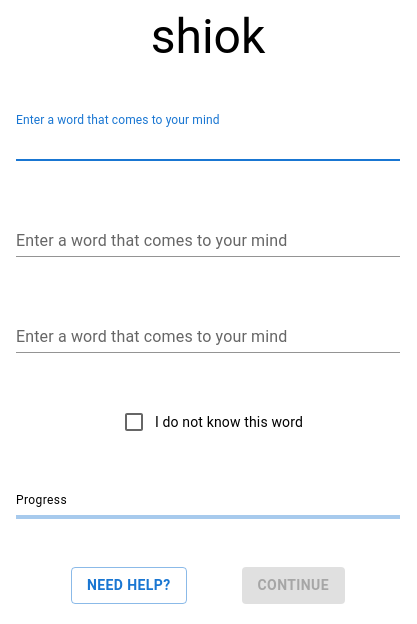
Test: QuizPage › re-enables response fields and clears previous answers when recognition is toggled back on
Type "kopi" into the 1st field labelled "Enter a word that comes to your mind" at (208, 145), box [16,129,400,161]
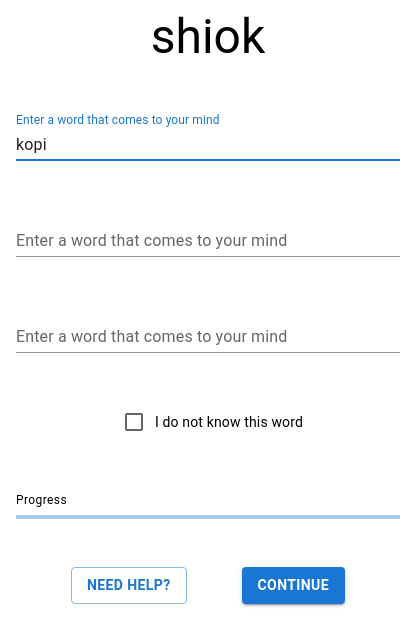
Click the checkbox at (134, 422), box [122,410,146,434]
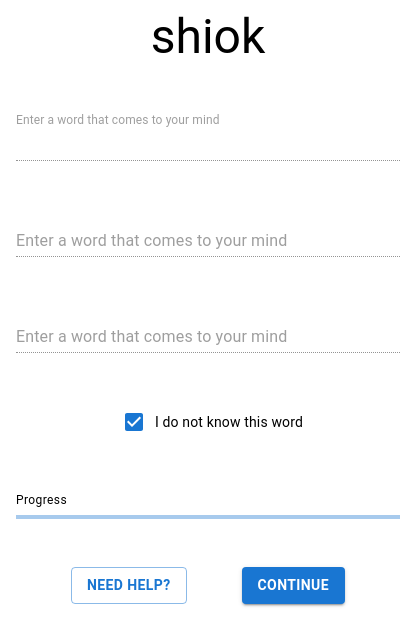
Expected: the 1st field labelled "Enter a word that comes to your mind" is disabled, [16,129,400,161]
Click the checkbox at (134, 422), box [122,410,146,434]
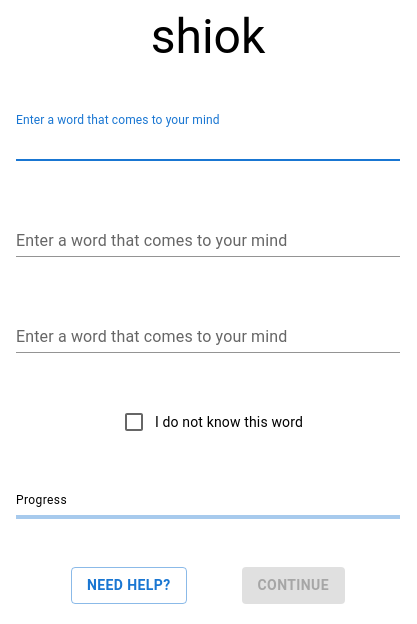
Expected: the 1st field labelled "Enter a word that comes to your mind" is enabled, [16,129,400,161]
Expected: the 1st field labelled "Enter a word that comes to your mind" is empty, [16,129,400,161]
